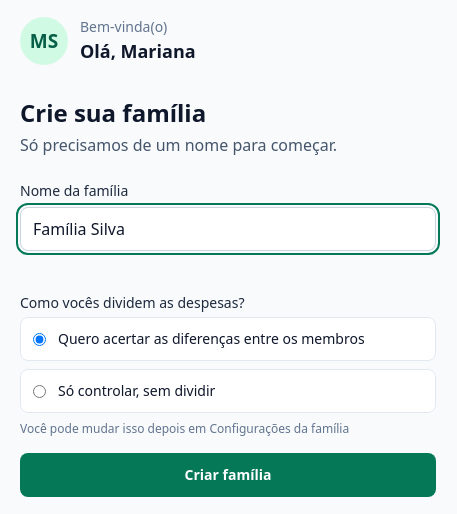
Test case: US-002 Duplo clique não duplica (componente) › duas tentativas rápidas enviam uma única requisição, com Idempotency-Key
Double-click the button "Criar família" at (228, 475), box [20,453,436,497]
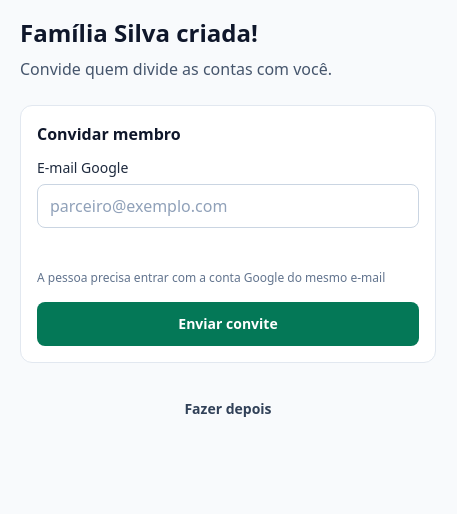
Expected: the heading "Família Silva criada!" is shown, [20,16,258,49]
Expected: the button "Fazer depois" is shown, [20,387,436,431]
